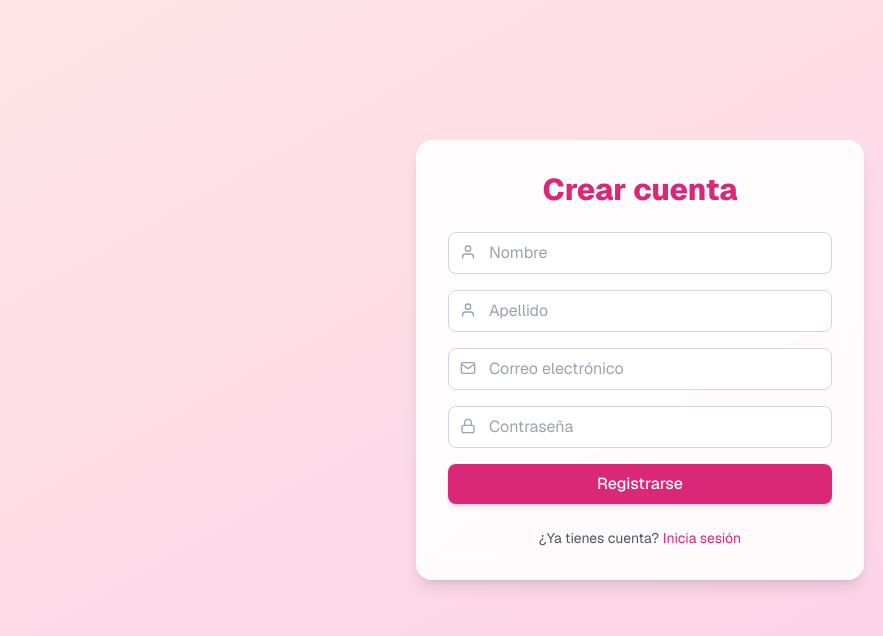
it: RegisterPage › muestra mensaje de error cuando falla el registro
Type "Ana" into the field with placeholder "Nombre".
click(640, 253); type("Ana")  # box [448,232,832,274]
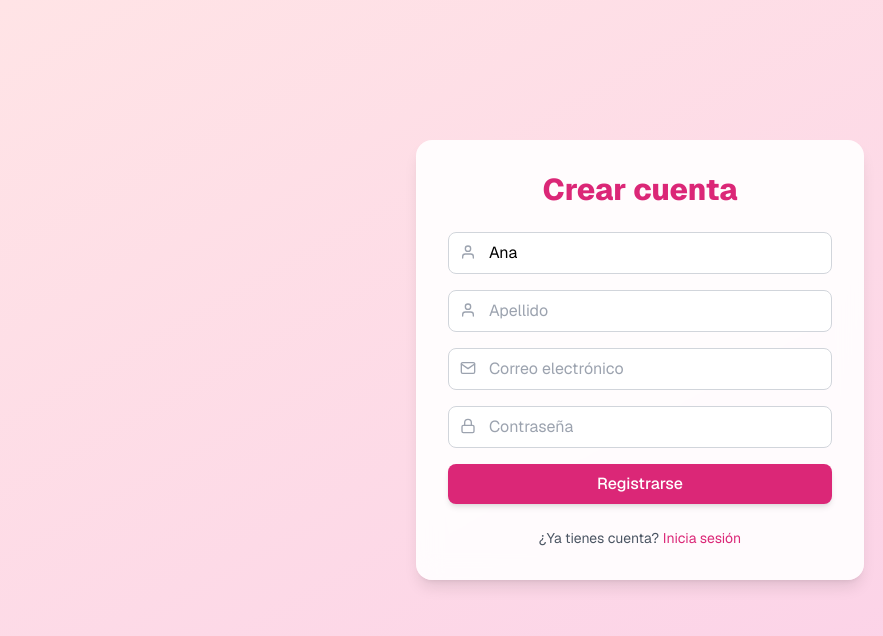
Type "Gómez" into the field with placeholder "Apellido".
click(640, 311); type("Gómez")  # box [448,290,832,332]
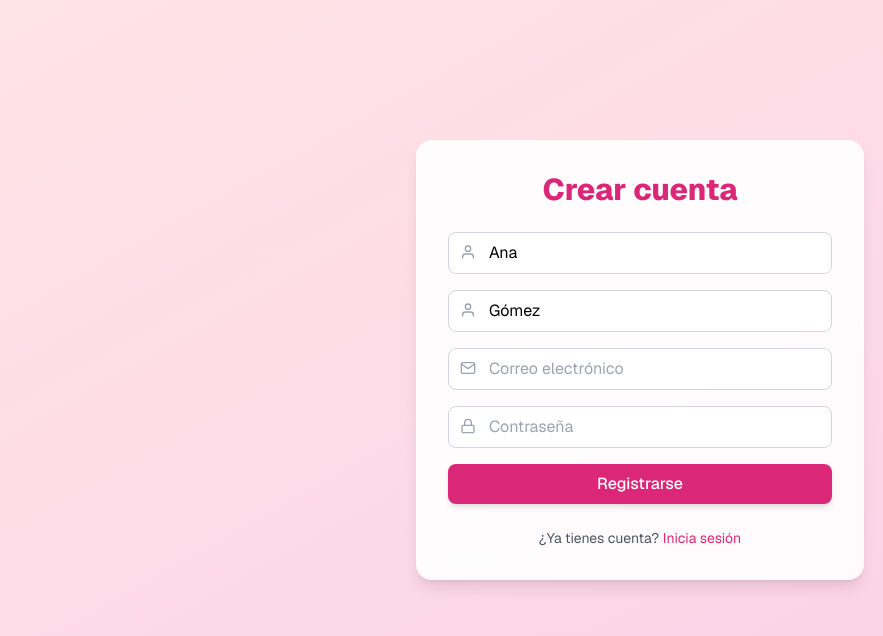
Type "ana@example.com" into the field with placeholder "Correo electrónico".
click(640, 369); type("ana@example.com")  # box [448,348,832,390]
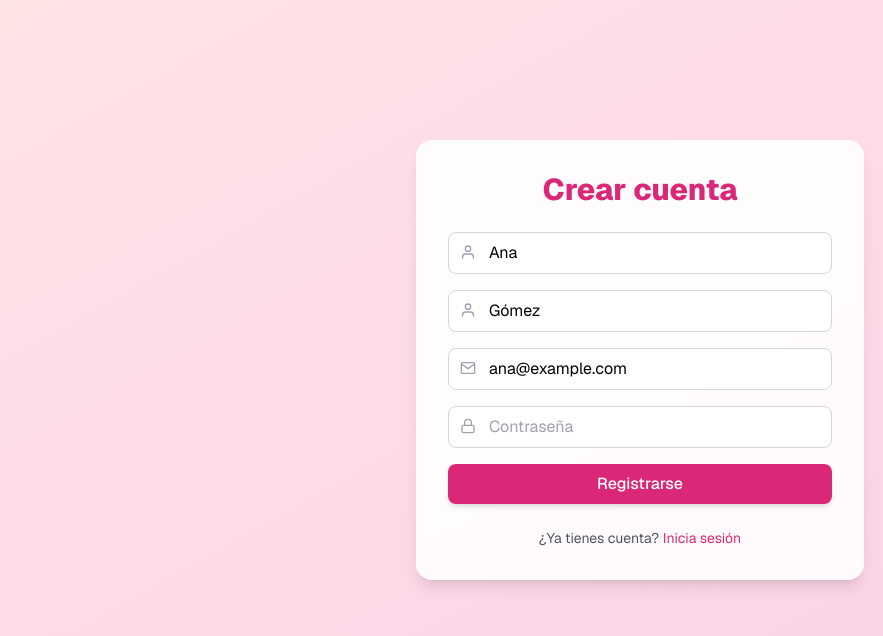
Type "password123" into the password field with placeholder "Contraseña".
click(640, 427); type("password123")  # box [448,406,832,448]
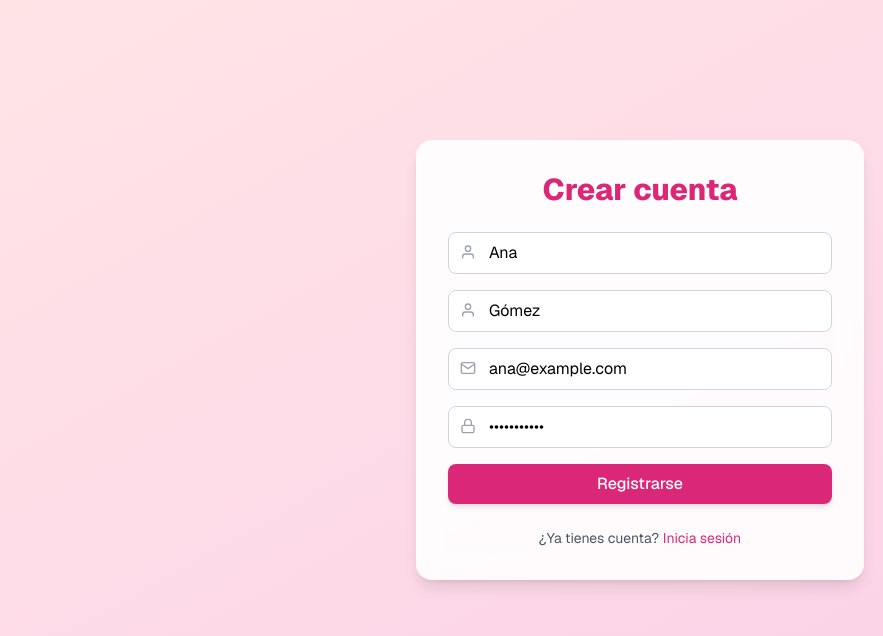
Click the button "Registrarse".
click(640, 484)  # box [448,464,832,504]
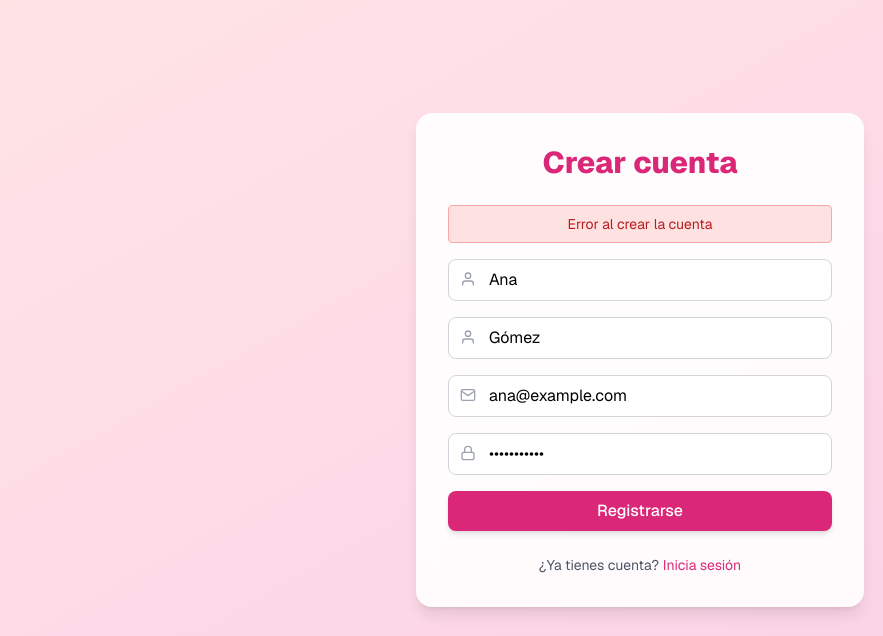
Expected: the text "Error al crear la cuenta" is shown, [448,205,832,243]
